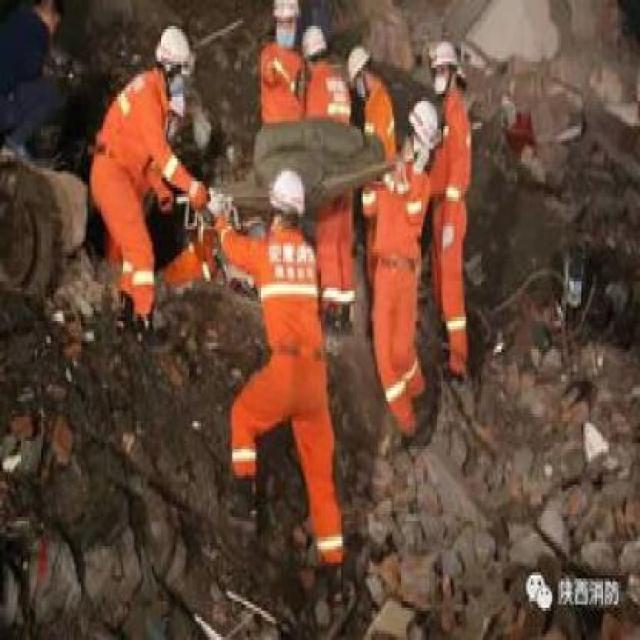fall: (177, 148, 341, 566)
